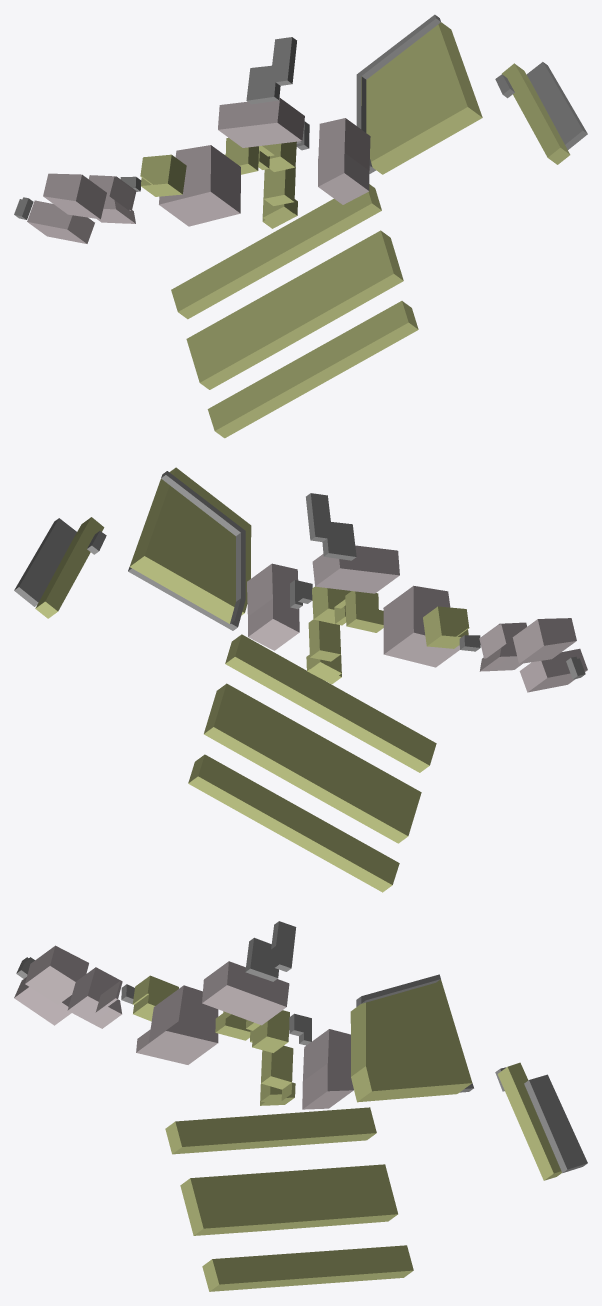
3 renders of one model, top to bottom at view 1: azimuth 30°, elevation 25°; view 2: azimuth 150°, elevation 25°; view 3: azimuth 330°, elevation 25°, orthographic.
Visible parts, largest first — view 1: 0_2_3_2_1_2_0; view 2: 0_2_3_2_1_2_0; view 3: 0_2_3_2_1_2_0.
Boxes of the visible parts, x1,y1,x2,y2 form: 0_2_3_2_1_2_0: [14, 14, 587, 438]; 0_2_3_2_1_2_0: [14, 467, 587, 892]; 0_2_3_2_1_2_0: [14, 921, 587, 1291].
Bounding box in the file's own units: 197 × 125 × 18.52.
